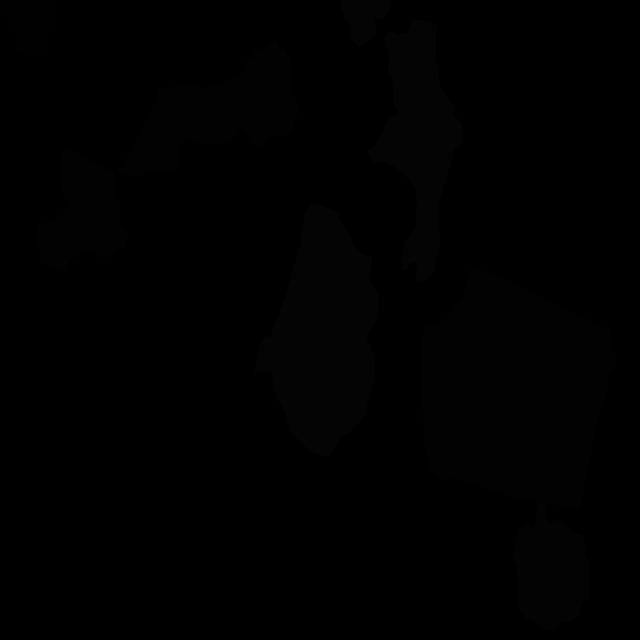cardboard: (420, 268, 618, 511), (116, 41, 300, 176), (35, 146, 128, 273)
metal: (512, 503, 590, 631)
rigid_plastic: (0, 0, 56, 61)
soft_plastic: (254, 203, 378, 458), (367, 19, 462, 281), (340, 0, 390, 47)
